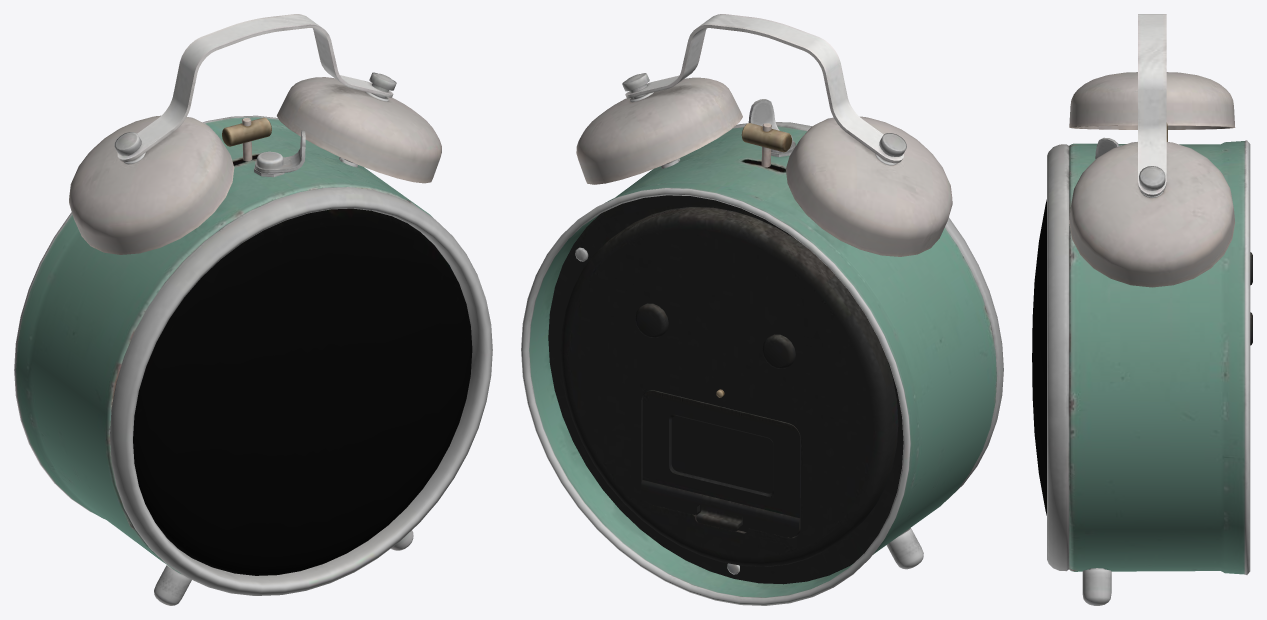
Rendered from alarm_clock_01_1k.glb.
3 renders of one model, left to right at view 1: azimuth 30°, elevation 25°; view 2: azimuth 150°, elevation 25°; view 3: azimuth 270°, elevation 25°, orthographic. The views are drawn at different scales.
Visible parts, largest first — view 1: alarm_clock_01; view 2: alarm_clock_01; view 3: alarm_clock_01.
Boxes of the visible parts, bbox=[...] form: alarm_clock_01: bbox=[14, 14, 492, 605]; alarm_clock_01: bbox=[521, 14, 1003, 605]; alarm_clock_01: bbox=[1032, 14, 1252, 605].
Bounding box in the file's own units: 0.1317 × 0.1742 × 0.0667.
2 materials, 2 textured.
